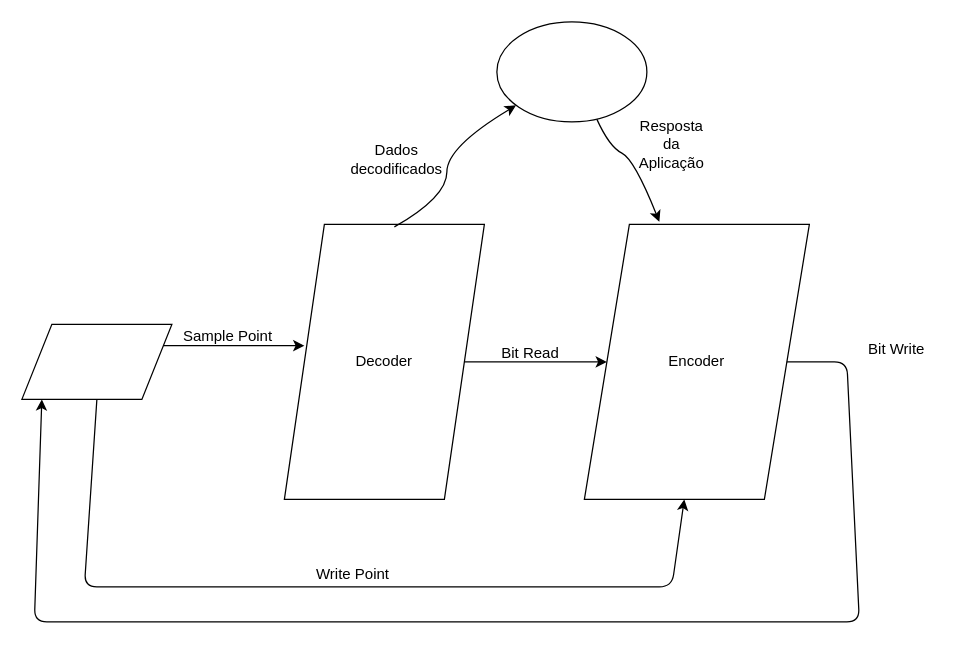
Image size: 956x654. Some labels were removed from this diagram. The centre of each missing label's shape, as x and y in pixels:
Aplicação: (571,71)
Bit timing: (96,361)
